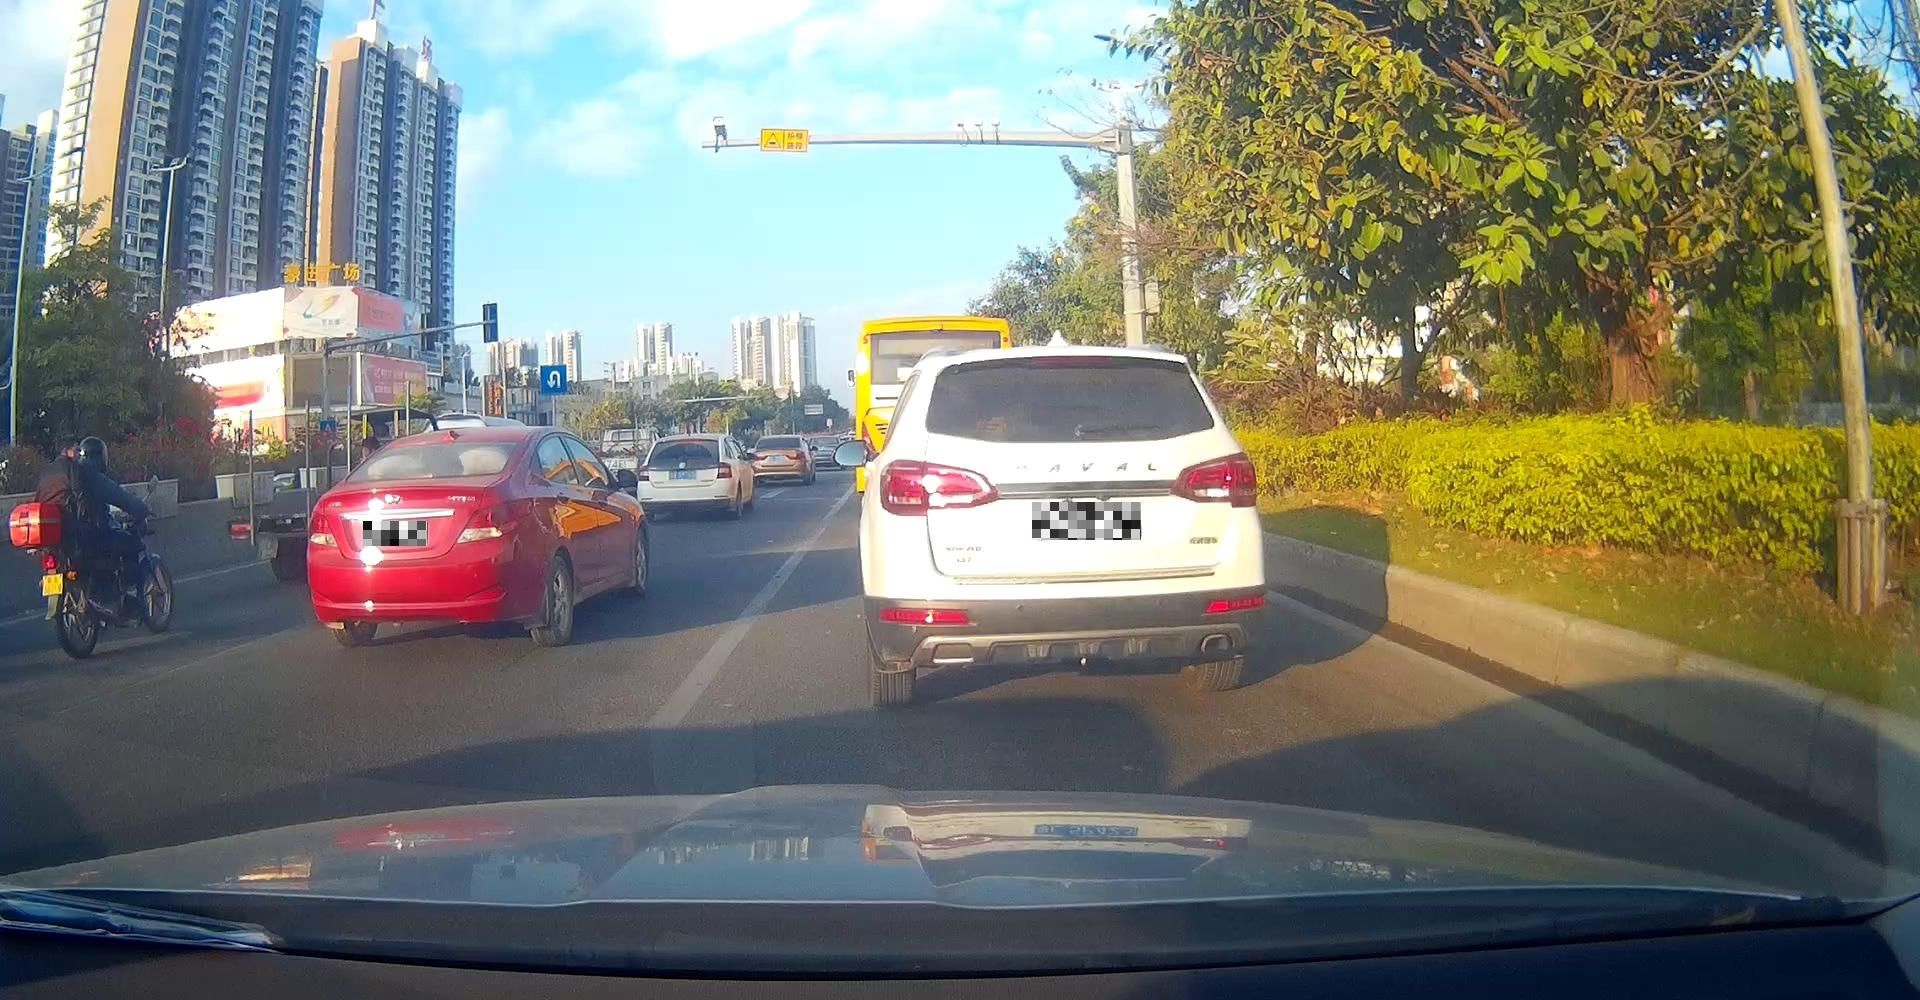L_light: (880, 459, 1002, 516), (307, 510, 339, 547), (637, 466, 649, 481)
R_light: (1170, 451, 1257, 508), (455, 497, 535, 544), (716, 462, 731, 478)
T_light: (1032, 357, 1112, 365), (404, 473, 436, 478), (681, 440, 701, 443)
day-no: (863, 346, 1265, 707), (306, 426, 537, 647), (637, 434, 737, 520)
plate_1: (363, 522, 427, 546)
plate_2: (1032, 503, 1142, 541)
